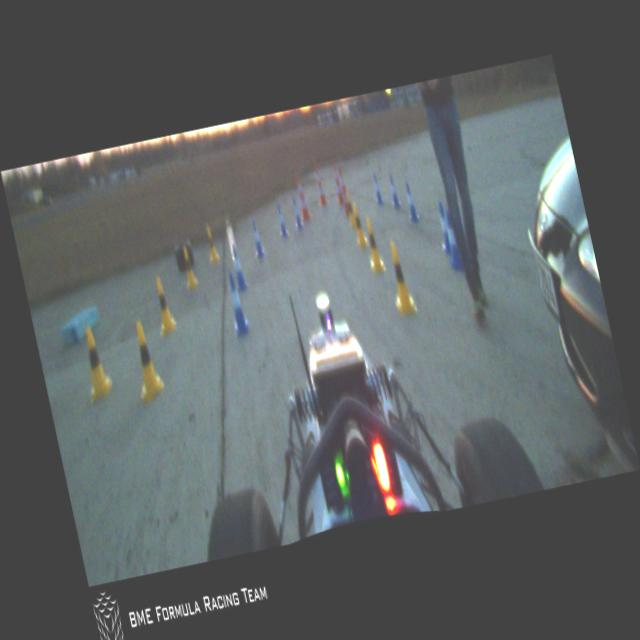blue_cone: (222, 268, 250, 338), (439, 208, 465, 272), (432, 200, 453, 256), (227, 243, 248, 290), (248, 218, 266, 260), (402, 181, 420, 222), (386, 172, 401, 210), (369, 172, 384, 207), (274, 203, 288, 238), (290, 198, 304, 230)
large_orange_cone: (292, 172, 312, 222), (334, 164, 352, 216), (329, 160, 345, 206), (312, 164, 328, 207)
yellow_cone: (125, 320, 166, 406), (76, 324, 115, 404), (383, 239, 418, 315), (148, 274, 178, 338), (360, 216, 384, 273), (178, 244, 199, 291), (349, 201, 368, 248), (202, 225, 220, 263), (343, 190, 357, 230)
